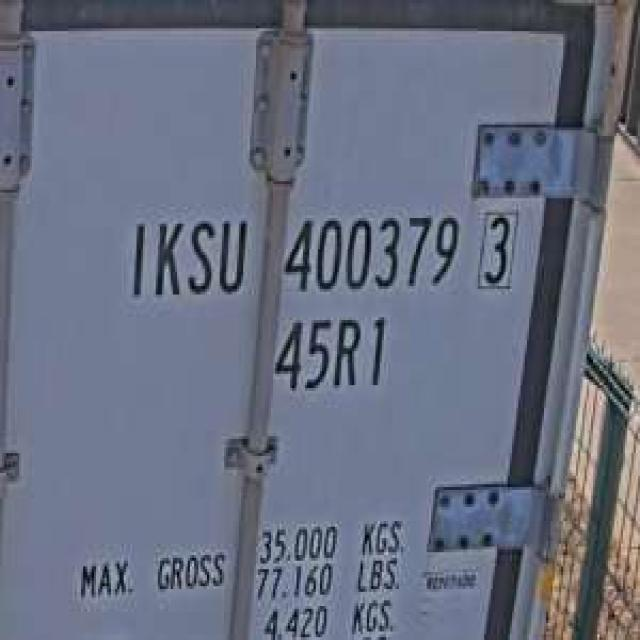dv: (472, 201, 520, 295)
owner: (122, 204, 250, 306)
serial: (279, 201, 463, 300)
size: (269, 306, 392, 399)
